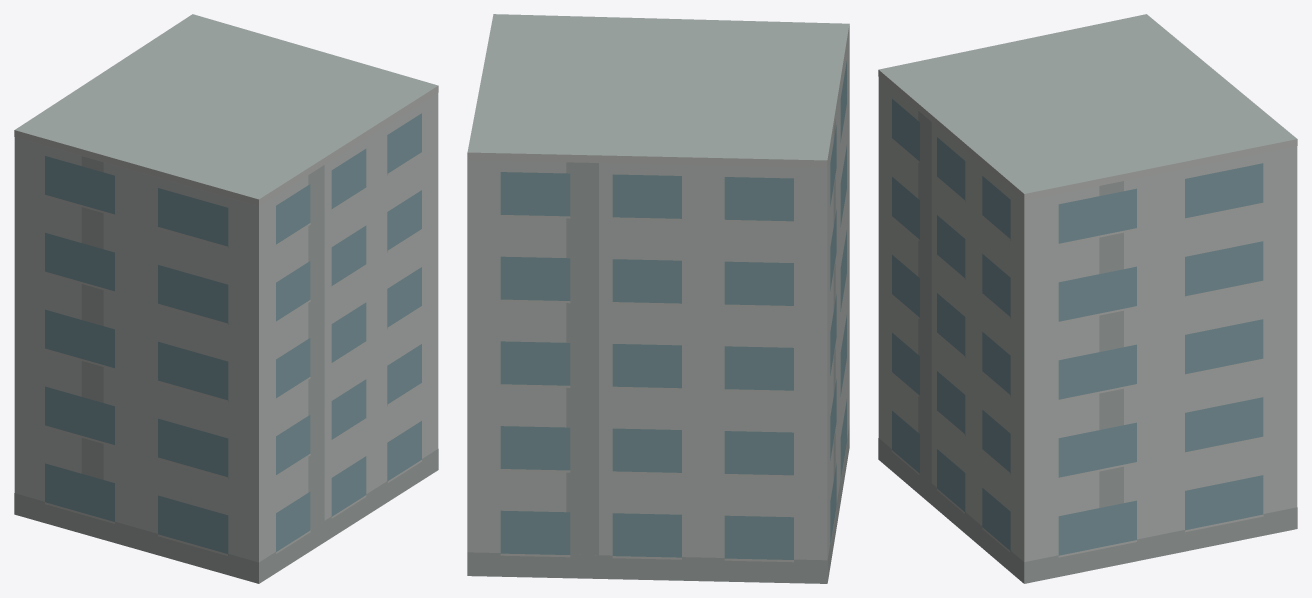
File: survey-upis-32891457.glb
The picture shows the model from 3 angles, left to right: view 1: azimuth 30°, elevation 25°; view 2: azimuth 150°, elevation 25°; view 3: azimuth 270°, elevation 25°; orthographic projection. The views are drawn at different scales.
Visible parts, largest first — view 1: survey-upis-32891457.tmp; view 2: survey-upis-32891457.tmp; view 3: survey-upis-32891457.tmp.
Boxes of the visible parts, x1,y1,x2,y2 form: survey-upis-32891457.tmp: (14, 14, 438, 583); survey-upis-32891457.tmp: (467, 14, 849, 583); survey-upis-32891457.tmp: (878, 14, 1297, 583).
Bounding box in the file's own units: 13.37 × 13.5 × 13.16.
